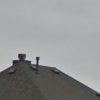Chimney: (10, 46, 37, 69)
